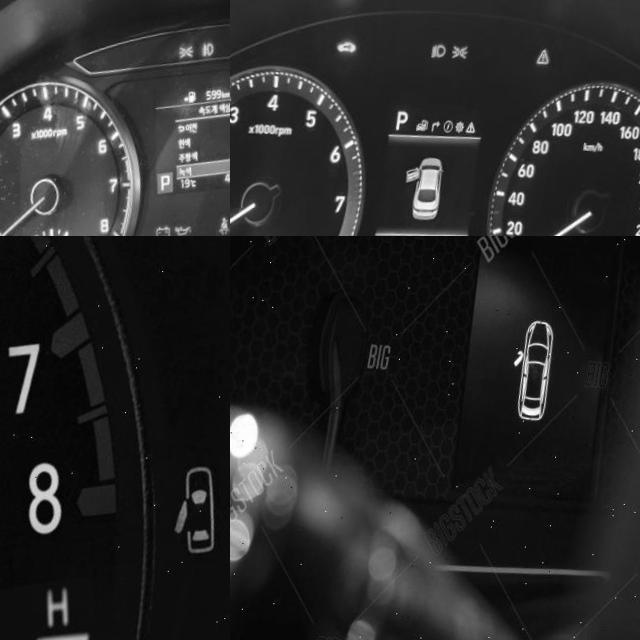Central Warning lamp: (544, 40, 559, 57)
FrontFogLight: (207, 35, 223, 52)
Low beam: (438, 37, 455, 52)
SideLamp: (184, 38, 203, 55), (459, 38, 477, 53)
